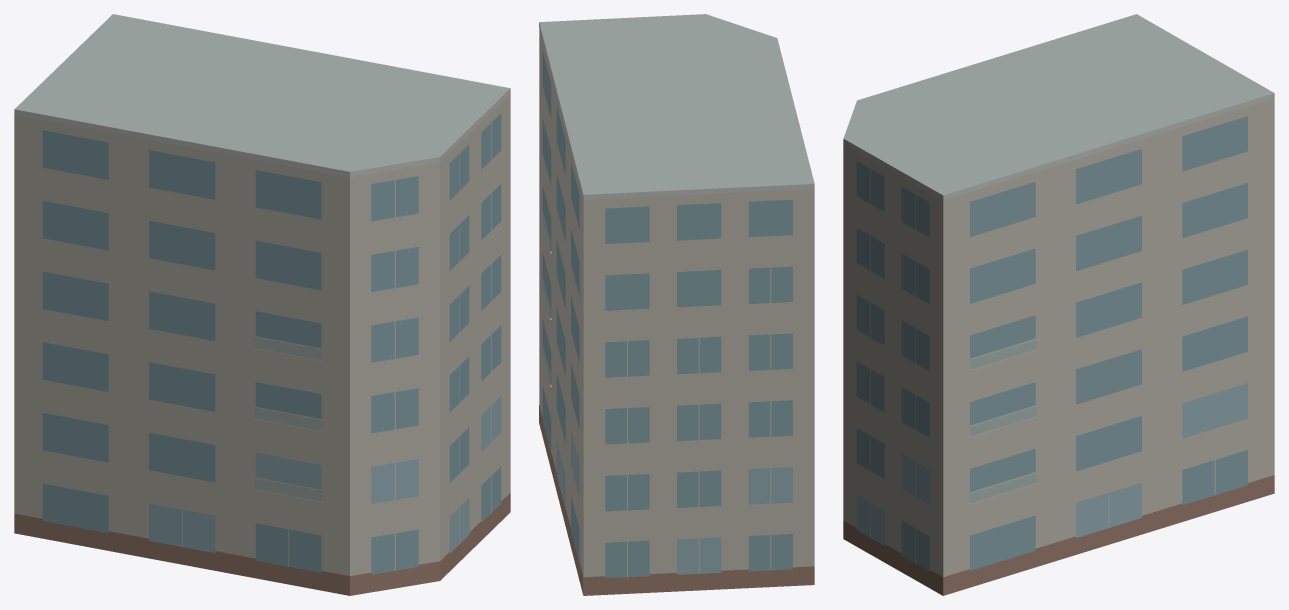
Rendered from survey-upis-33010202.glb.
3 renders of one model, left to right at view 1: azimuth 30°, elevation 25°; view 2: azimuth 150°, elevation 25°; view 3: azimuth 270°, elevation 25°, orthographic. The views are drawn at different scales.
Parts seen in each view (by area): view 1: survey-upis-33010202.tmp; view 2: survey-upis-33010202.tmp; view 3: survey-upis-33010202.tmp.
Boxes of the visible parts, x1,y1,x2,y2 form: survey-upis-33010202.tmp: (14, 14, 510, 595); survey-upis-33010202.tmp: (539, 14, 814, 595); survey-upis-33010202.tmp: (843, 14, 1274, 595).
Size of the model in its own units: 18.47 by 19 by 18.55.
